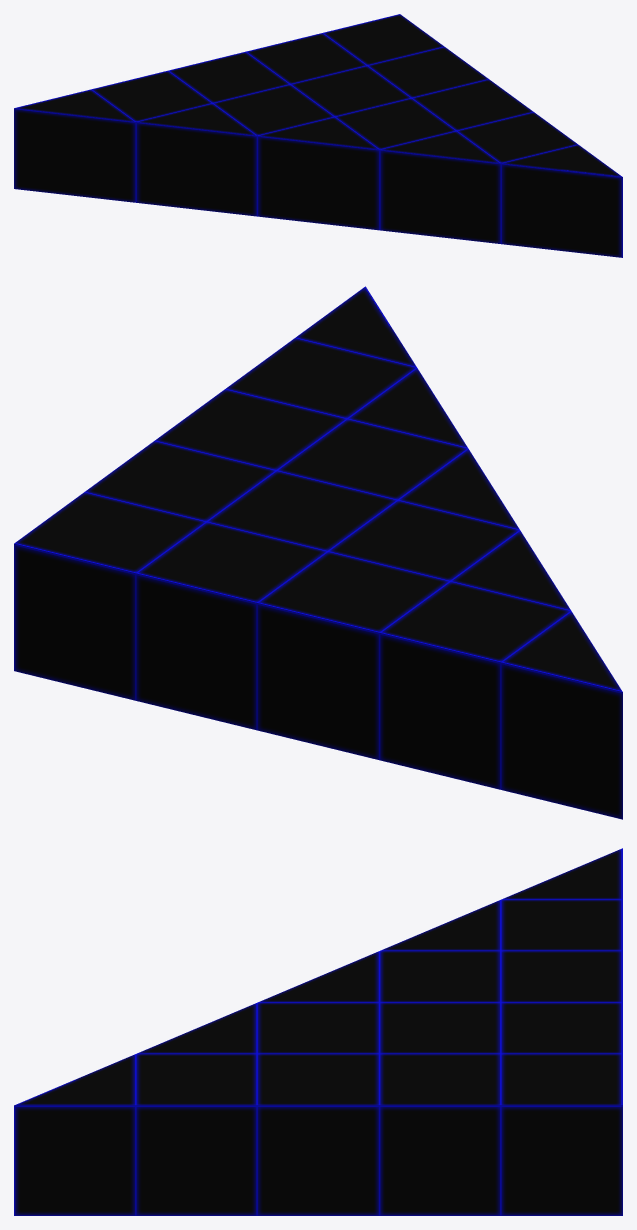
File: corner5x5.FBX
The picture shows the model from 3 angles, top to bottom: view 1: azimuth 30°, elevation 25°; view 2: azimuth 150°, elevation 25°; view 3: azimuth 270°, elevation 25°; orthographic projection. The views are drawn at different scales.
Visible parts, largest first — view 1: Box001; view 2: Box001; view 3: Box001.
Part boxes in pixels (x1,y1,x2,y2): Box001: [14, 14, 622, 257]; Box001: [14, 286, 622, 819]; Box001: [14, 848, 622, 1215].
Bounding box in the file's own units: 197 × 39.37 × 197.
1 material, 1 textured.
